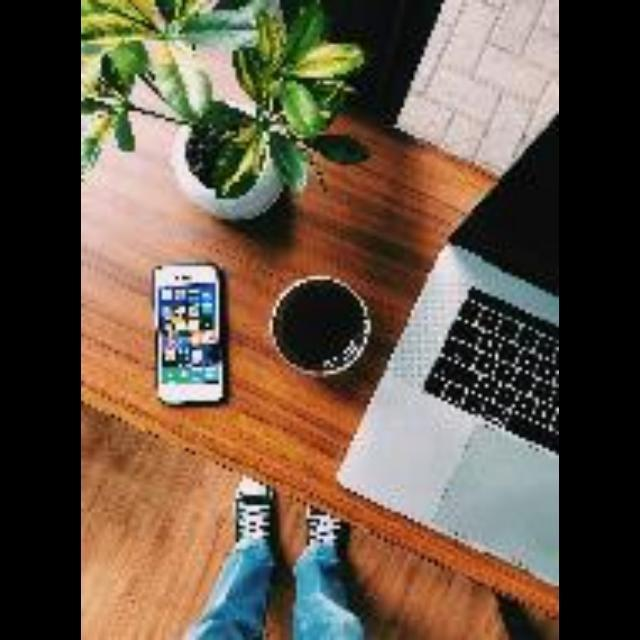PhoneUse: (154, 265, 230, 409)
